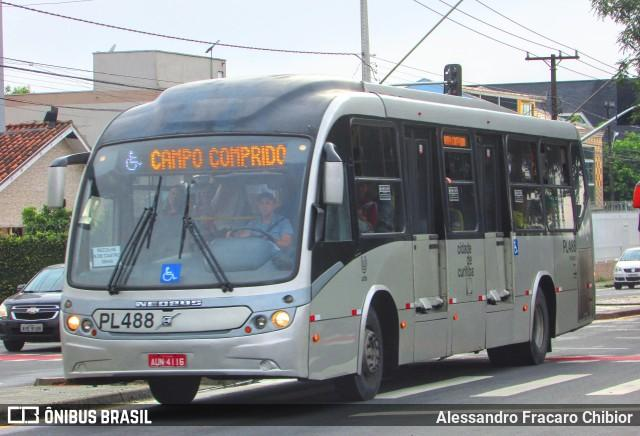CAMPO COMPRIDO: (145, 137, 289, 173)
